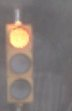Red: (6, 16, 37, 104)
